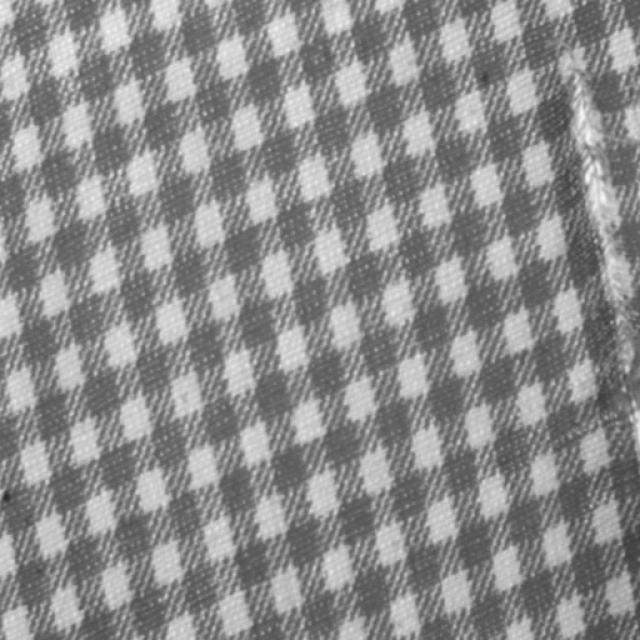Hole-Defect: (561, 68, 639, 428)
